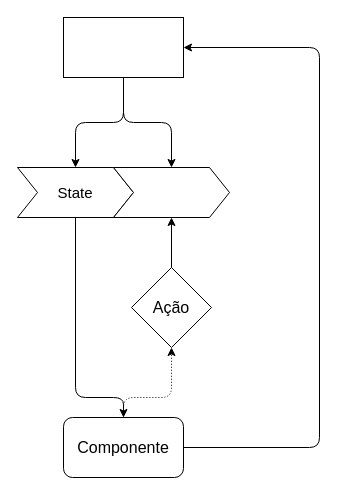
Some shapes in this 345 by 495 pixel diagram are drawn without their labels. The box of each missing label's shape, as (x1, y1, x2, y2) in pixels:
SetState: (112, 166, 230, 218)
useState: (62, 16, 184, 78)
